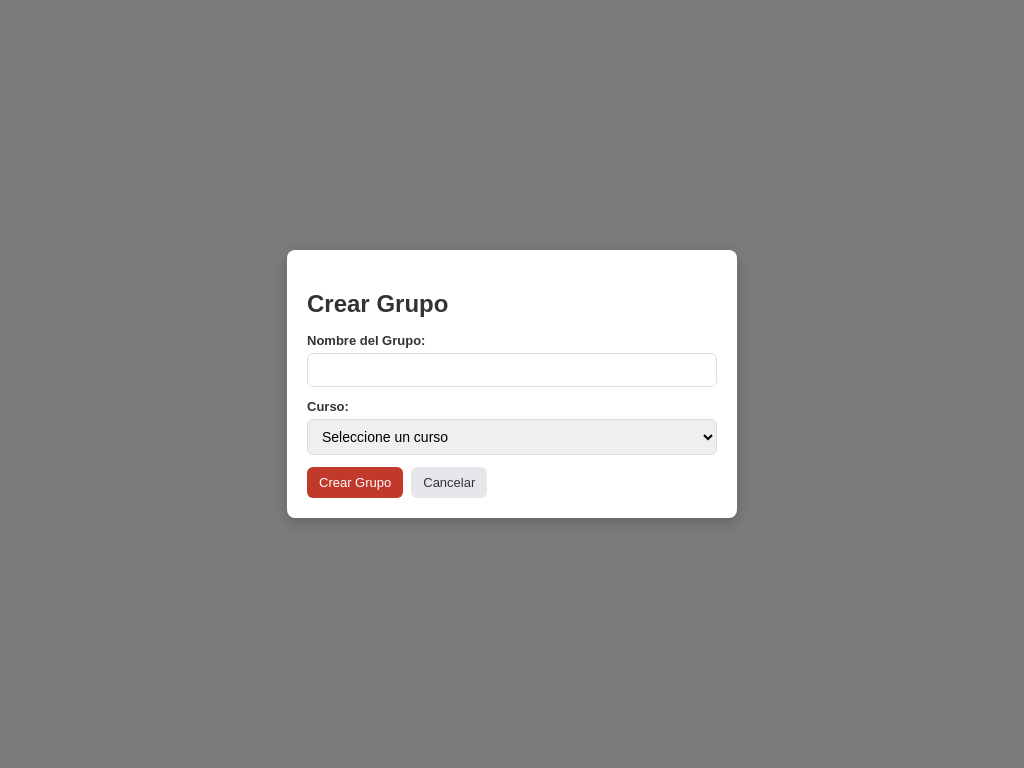
Test: CreacionGrupo › Validaciones del Formulario › muestra error si se ingresa nombre pero no se selecciona curso
Expected: the dropdown is shown, x1=307 y1=419 x2=717 y2=455
Type "Grupo Alpha" into the field labelled "Nombre del Grupo:" at (512, 370), box x1=307 y1=353 x2=717 y2=387
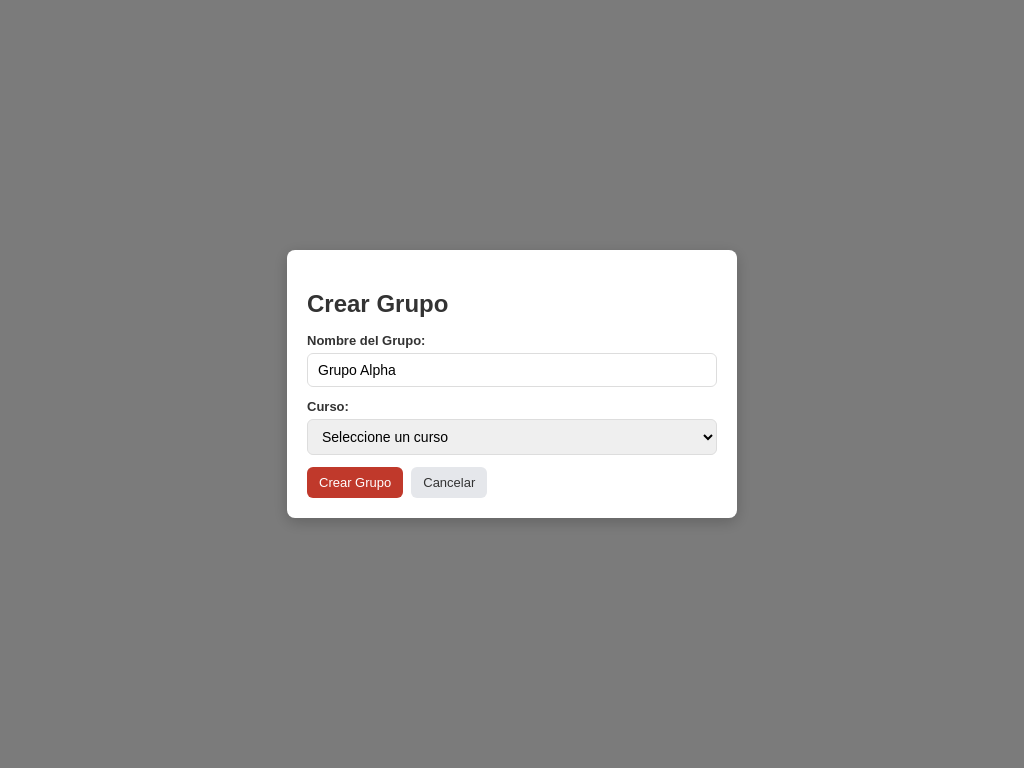
Click the button with test id "crearGrupo" at (355, 482), box x1=307 y1=467 x2=403 y2=498
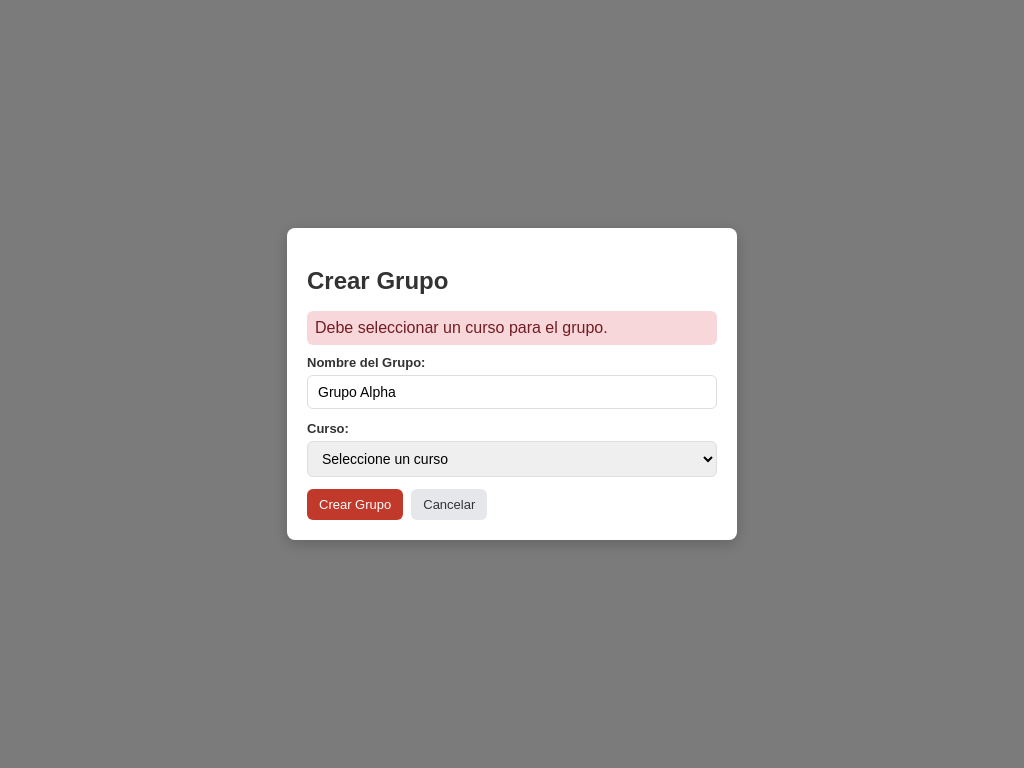
Now the text "Debe seleccionar un curso para el grupo." is shown, box x1=307 y1=312 x2=717 y2=346
